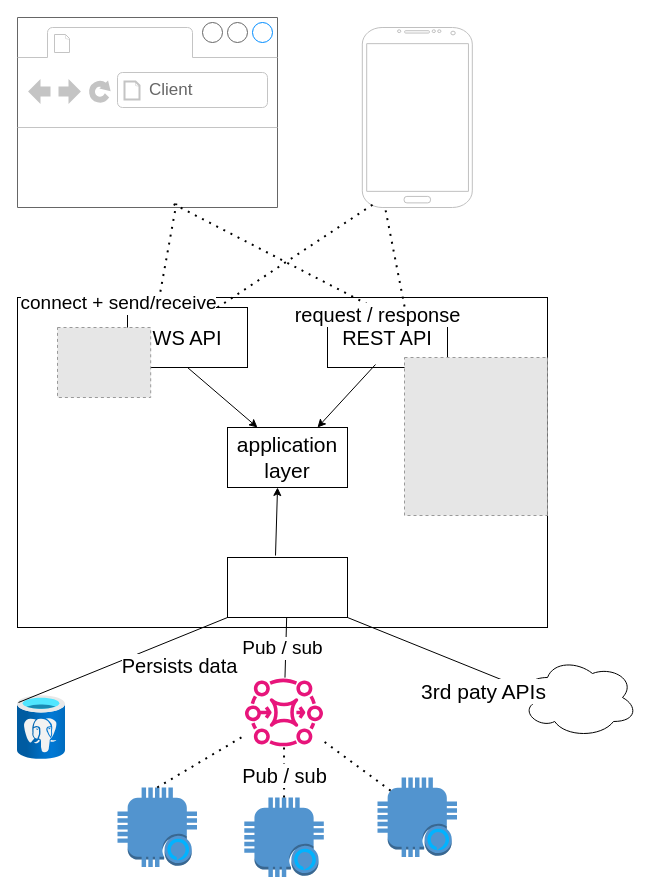
The diagram is 655 pixels wide and 895 high, and some of its shapes have lost their labels. Grey dashed boxes stand in for pictures. The shapes that lost their labels are listed below. From the top down, each one's centre as x and y in pixels, then its label:
the point at 132,42: Page 1
the point at 287,587: infra layer
